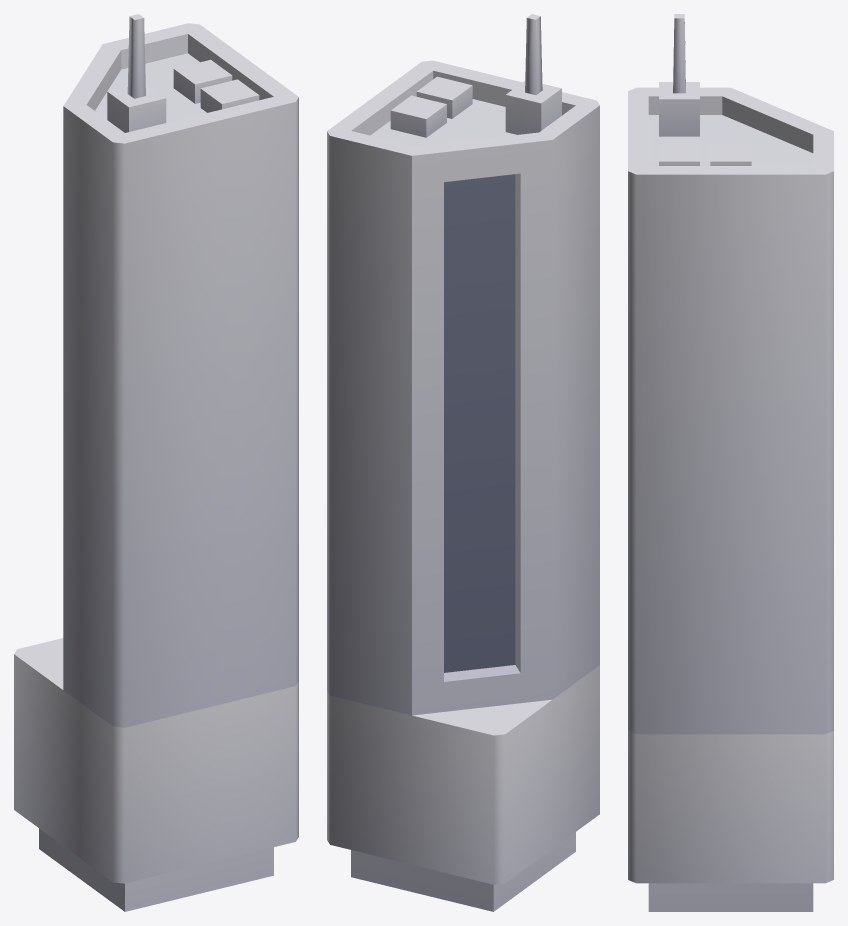
The model's file is low-detail-building-c.glb.
3 views of the same model, side by side, from view 1: azimuth 30°, elevation 25°; view 2: azimuth 150°, elevation 25°; view 3: azimuth 270°, elevation 25° (orthographic). The views are drawn at different scales.
Parts seen in each view (by area): view 1: low-detail-building-c; view 2: low-detail-building-c; view 3: low-detail-building-c.
Boxes of the visible parts, x1,y1,x2,y2 form: low-detail-building-c: (14,14,298,911); low-detail-building-c: (327,14,599,911); low-detail-building-c: (628,14,833,911).
Bounding box in the file's own units: 0.5 × 2.25 × 0.5.
1 material, 1 textured.
